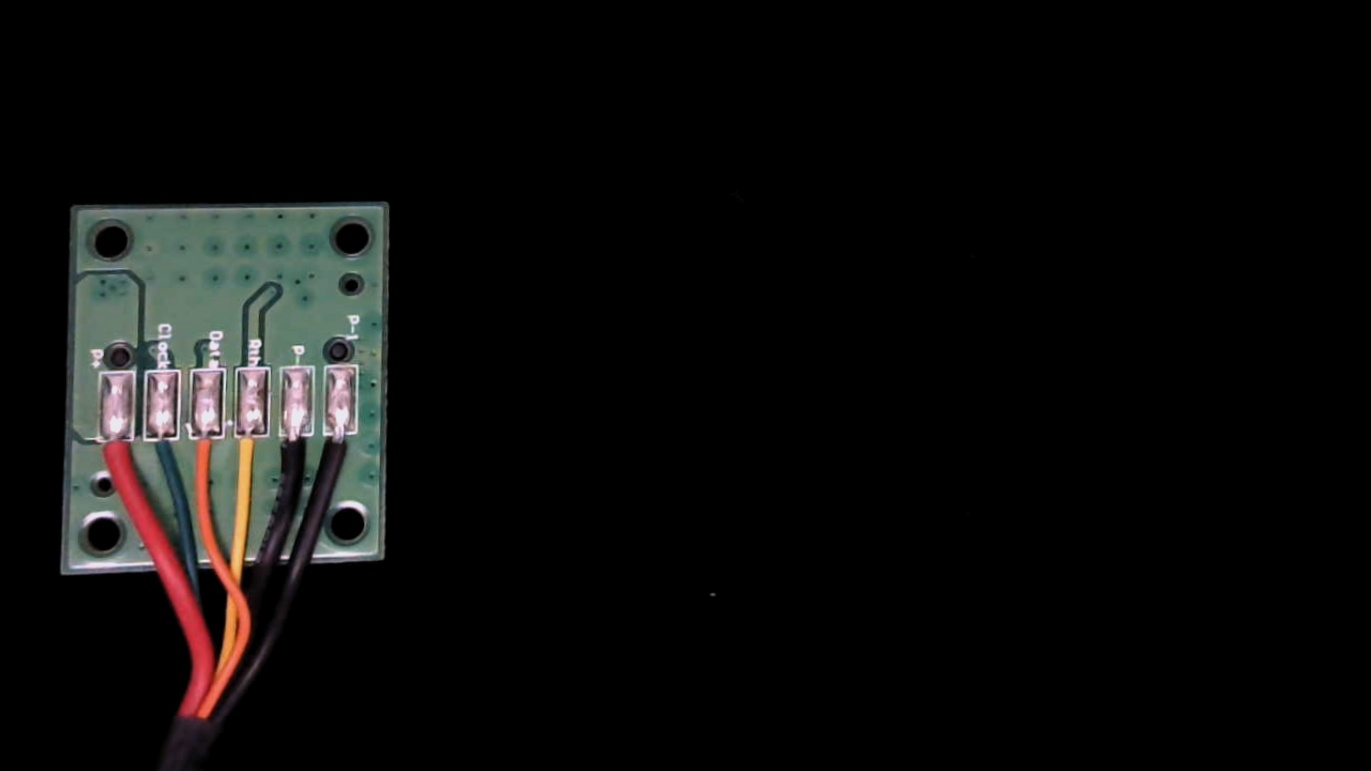Black: (275, 415, 311, 489)
Black1: (322, 414, 362, 488)
Green: (139, 418, 182, 490)
Orange: (185, 418, 225, 497)
Red: (92, 418, 134, 495)
Yellow: (227, 414, 269, 494)
